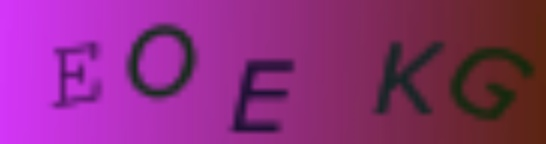E: (228, 56, 300, 137), (47, 38, 107, 113)
G: (449, 45, 538, 122)
K: (373, 37, 446, 120)
O: (124, 21, 199, 99)
